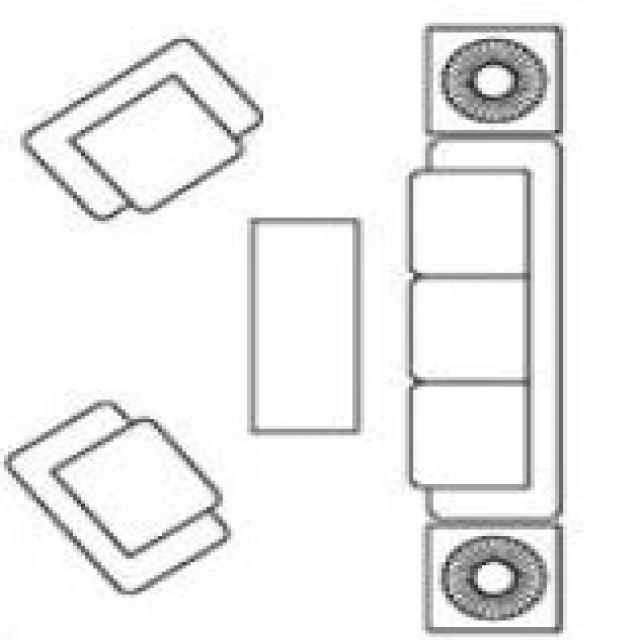sofa: (12, 16, 587, 630)
